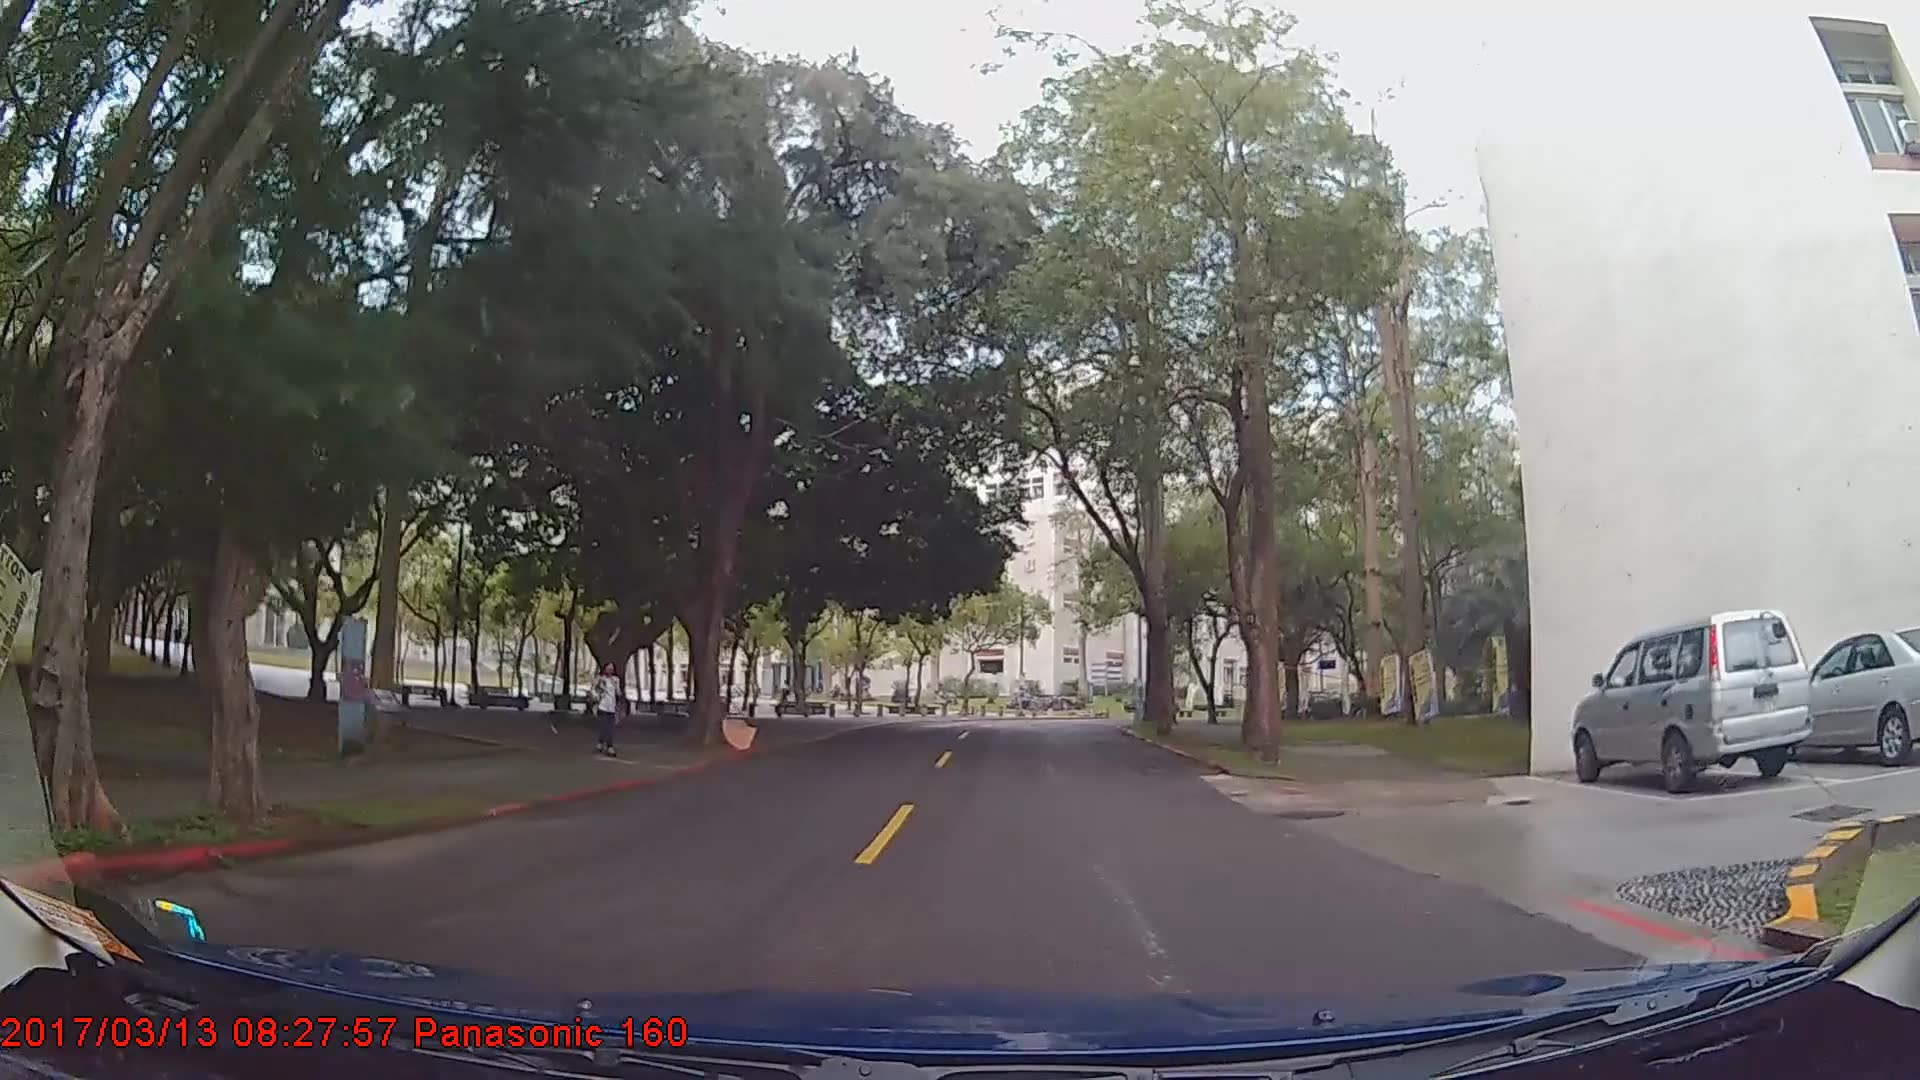pedestrian: (589, 657, 628, 759)
vehicle: (1570, 608, 1811, 793), (1765, 627, 1920, 767)
